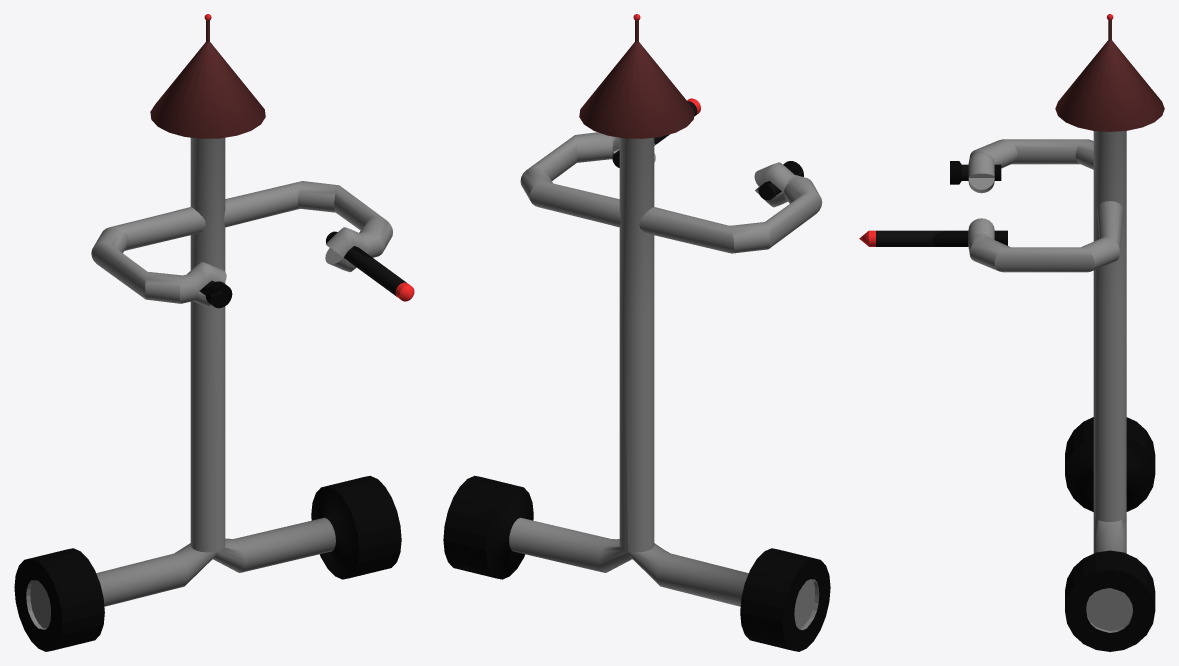
File: RobotGuard2.fbx
3 renders of one model, left to right at view 1: azimuth 30°, elevation 25°; view 2: azimuth 150°, elevation 25°; view 3: azimuth 270°, elevation 25°, orthographic. The views are drawn at different scales.
Parts seen in each view (by area): view 1: RobotGuard1; view 2: RobotGuard1; view 3: RobotGuard1.
Part boxes in pixels (<box>): RobotGuard1: <box>14,14,414,651</box>; RobotGuard1: <box>443,14,830,651</box>; RobotGuard1: <box>859,14,1164,651</box>.
Bounding box in the file's own units: 168 × 281 × 139.
